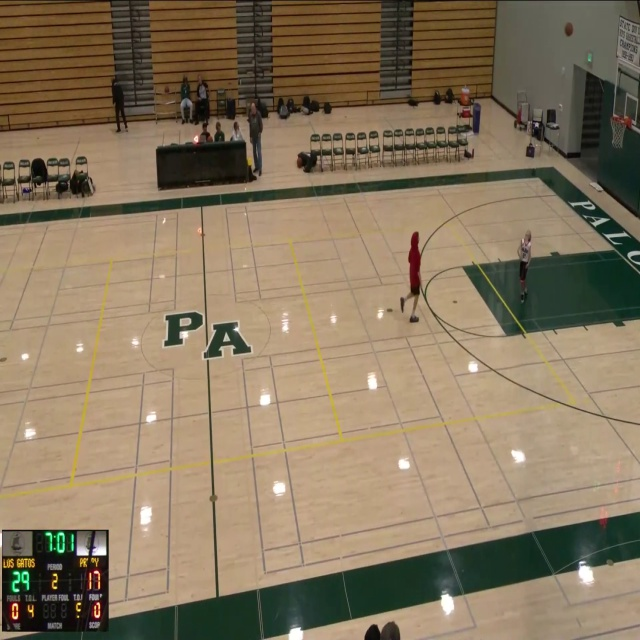Basketball: (564, 22, 573, 36), (296, 159, 302, 168)
